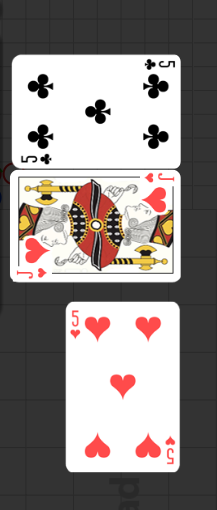5C: (19, 151, 54, 166)
5H: (163, 434, 176, 466), (69, 309, 82, 341)
